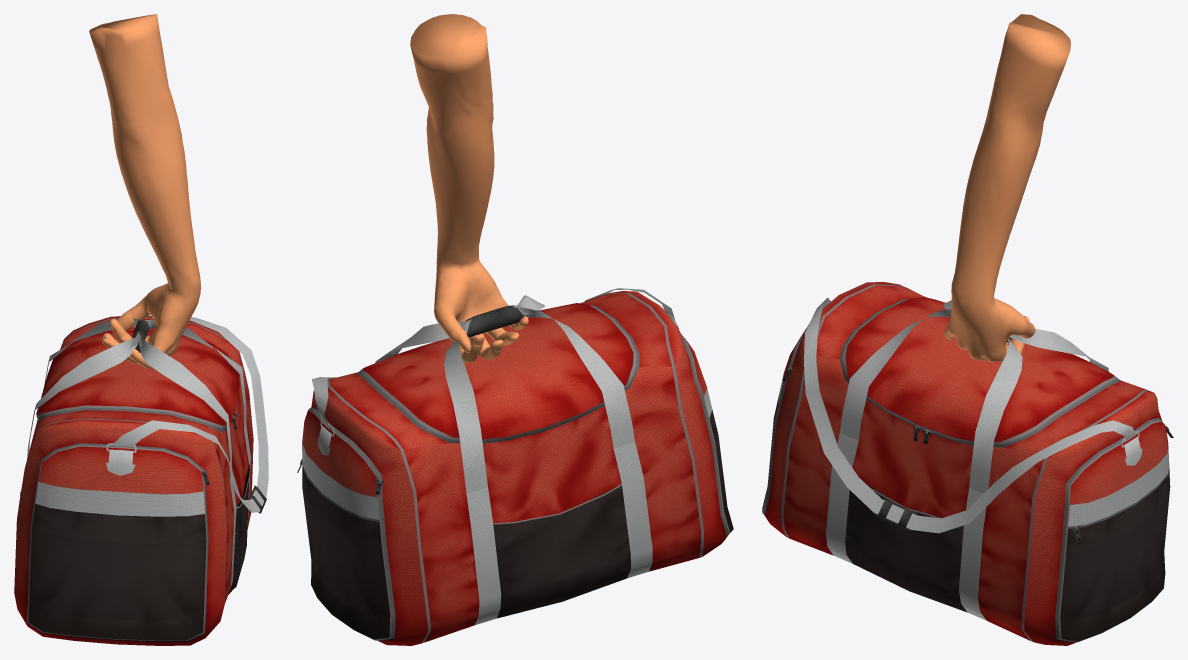
File: tangan lur.fbx
The picture shows the model from 3 angles, left to right: view 1: azimuth 30°, elevation 25°; view 2: azimuth 150°, elevation 25°; view 3: azimuth 270°, elevation 25°; orthographic projection. The views are drawn at different scales.
Visible parts, largest first — view 1: 運動包NIKE, uwong; view 2: 運動包NIKE, uwong; view 3: 運動包NIKE, uwong.
Part boxes in pixels (<box>): 運動包NIKE: <box>14,316,268,645</box>; uwong: <box>89,14,200,369</box>; 運動包NIKE: <box>297,288,733,645</box>; uwong: <box>410,14,528,363</box>; 運動包NIKE: <box>762,282,1173,645</box>; uwong: <box>944,14,1070,362</box>.
Size of the model in its own units: 687 by 1188 by 773.
6 materials, 1 textured.
